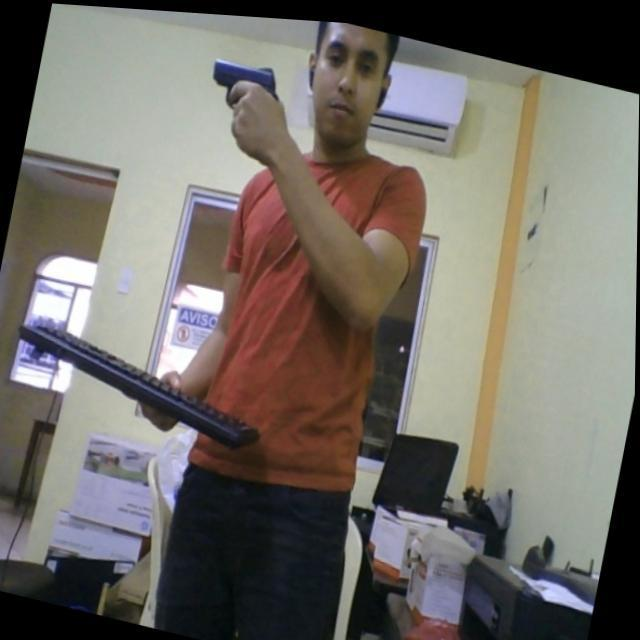weapon: (196, 40, 293, 134)
